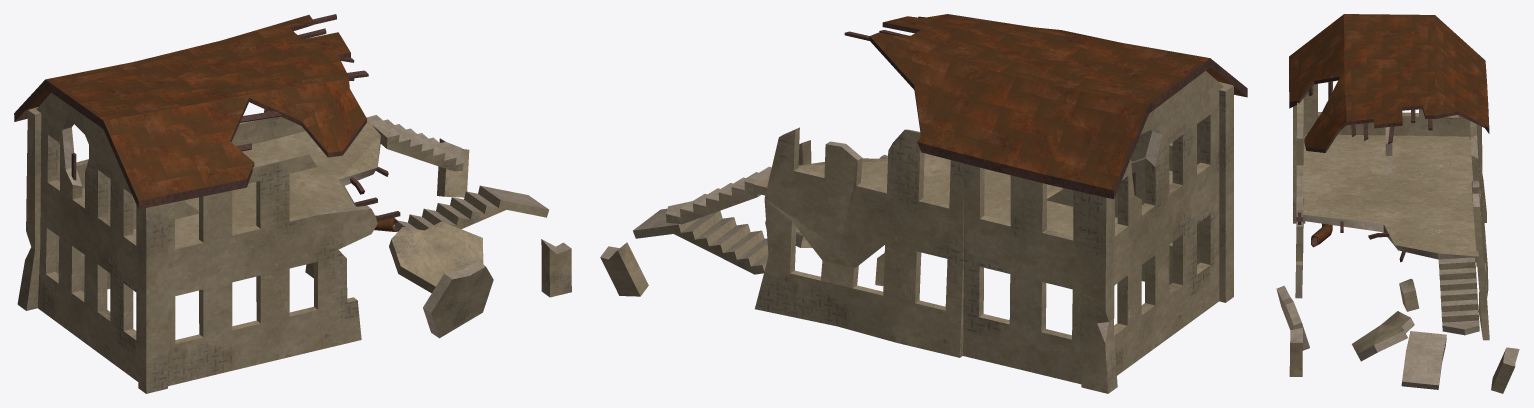
File: SM_Ruin_03.FBX
The picture shows the model from 3 angles, left to right: view 1: azimuth 30°, elevation 25°; view 2: azimuth 150°, elevation 25°; view 3: azimuth 270°, elevation 25°; orthographic projection. The views are drawn at different scales.
Visible parts, largest first — view 1: SM_Ruin_03; view 2: SM_Ruin_03; view 3: SM_Ruin_03.
Part boxes in pixels (left/top/right/bottom): SM_Ruin_03: left=14, top=14, right=571, bottom=393; SM_Ruin_03: left=600, top=14, right=1247, bottom=393; SM_Ruin_03: left=1276, top=14, right=1519, bottom=393.
Size of the model in its own units: 771 by 427 by 408.
